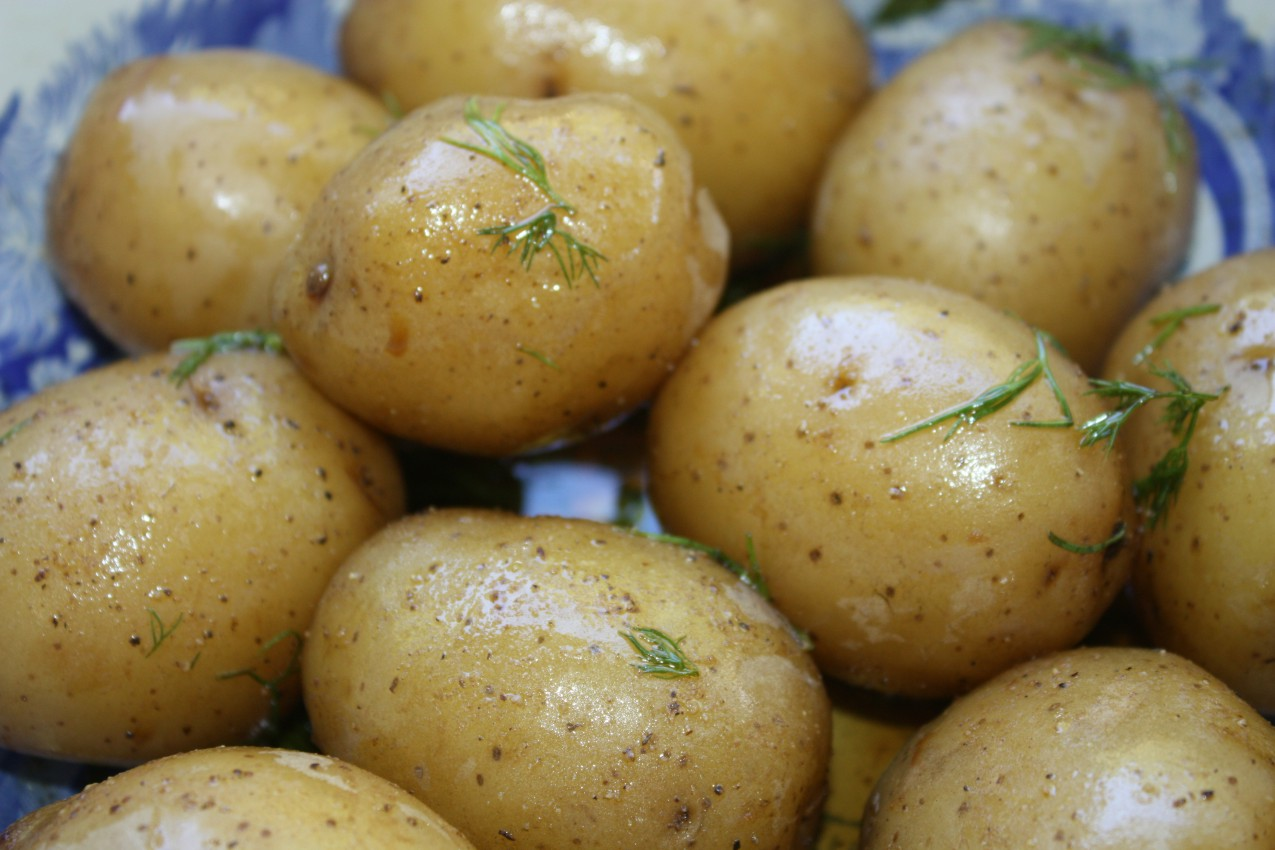boiled potatoes: (338, 520, 810, 848), (712, 280, 1100, 647), (314, 108, 718, 452), (4, 369, 357, 727), (811, 53, 1187, 297), (65, 37, 344, 321), (881, 649, 1275, 845), (1122, 258, 1275, 632), (1, 757, 449, 846)
